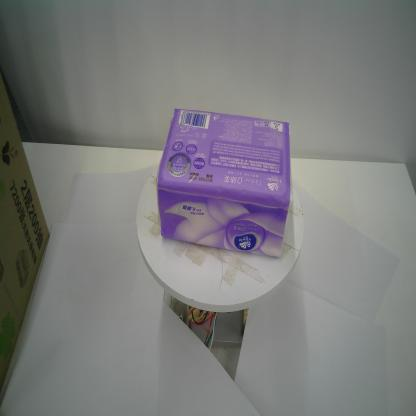Tissue: (153, 105, 293, 259)
